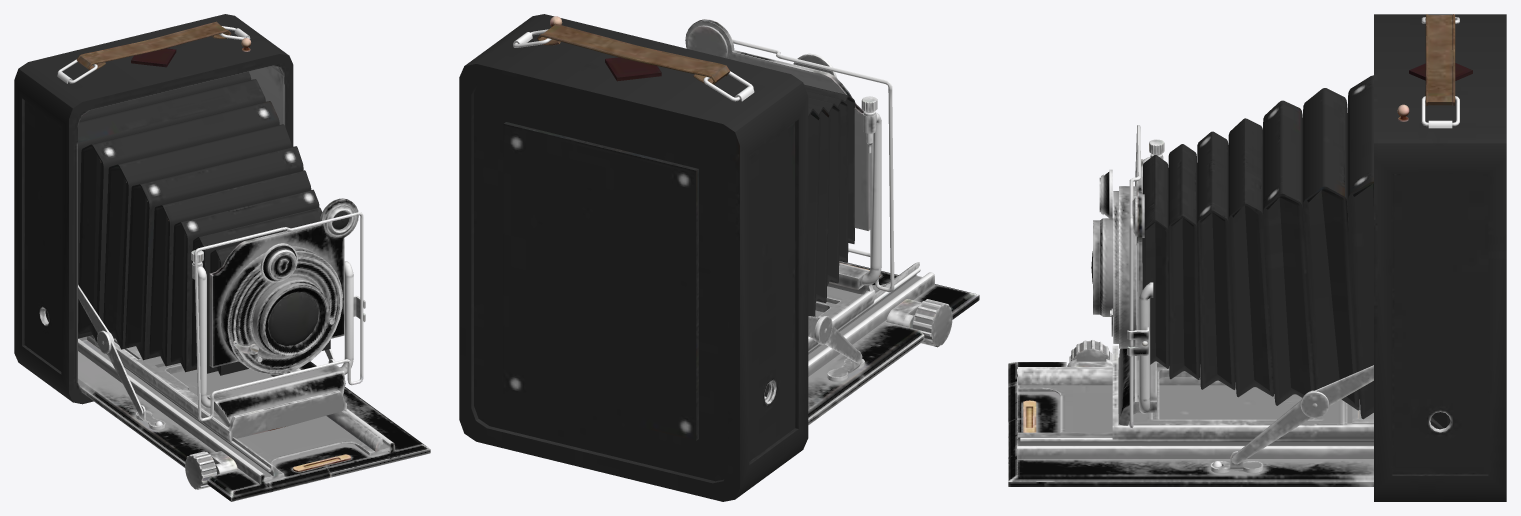
Rendered from camera-body.glb.
The picture shows the model from 3 angles, left to right: view 1: azimuth 30°, elevation 25°; view 2: azimuth 150°, elevation 25°; view 3: azimuth 270°, elevation 25°; orthographic projection. The views are drawn at different scales.
Parts seen in each view (by area): view 1: camera; view 2: camera; view 3: camera.
Boxes of the visible parts, x1,y1,x2,y2 form: camera: [14, 14, 430, 501]; camera: [459, 14, 979, 501]; camera: [1008, 14, 1506, 501].
Bounding box in the file's own units: 1.37 × 1.85 × 2.16.
Materials: 1 (1 with a texture image).
